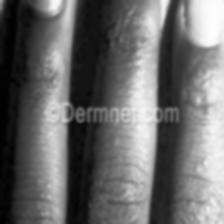Non-Cancerous Skin Condition: (182, 134, 223, 224), (36, 49, 64, 97)
